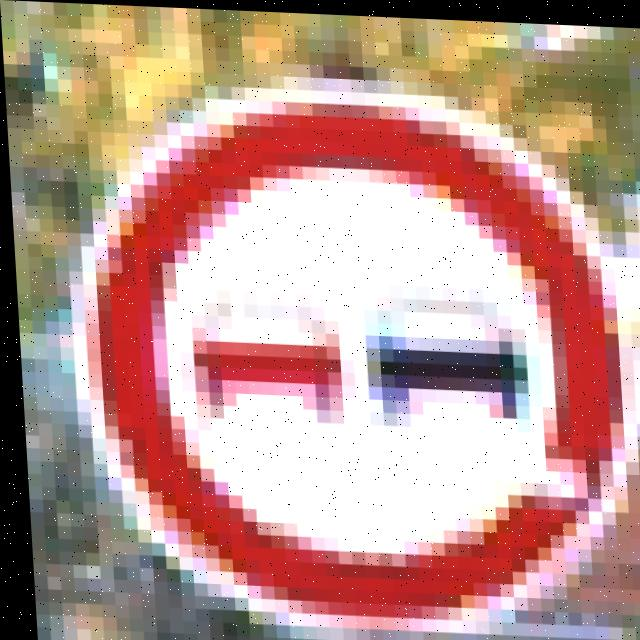no_overtaking: (57, 86, 636, 629)
